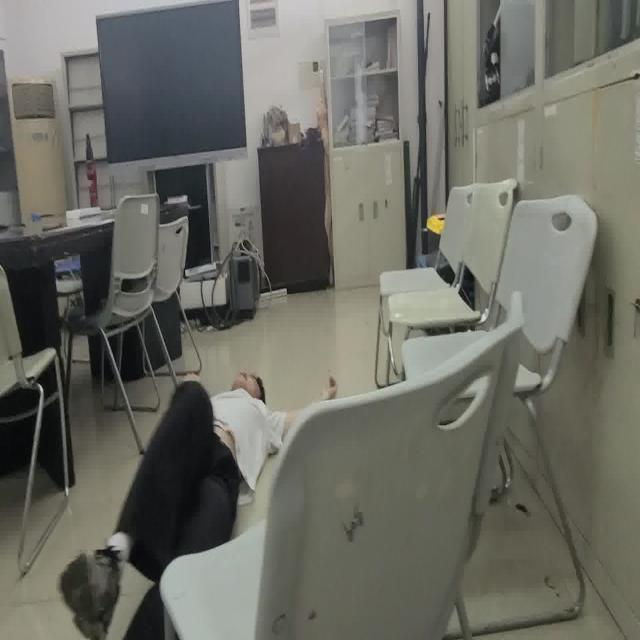Fall-Detected: (51, 371, 338, 640)
